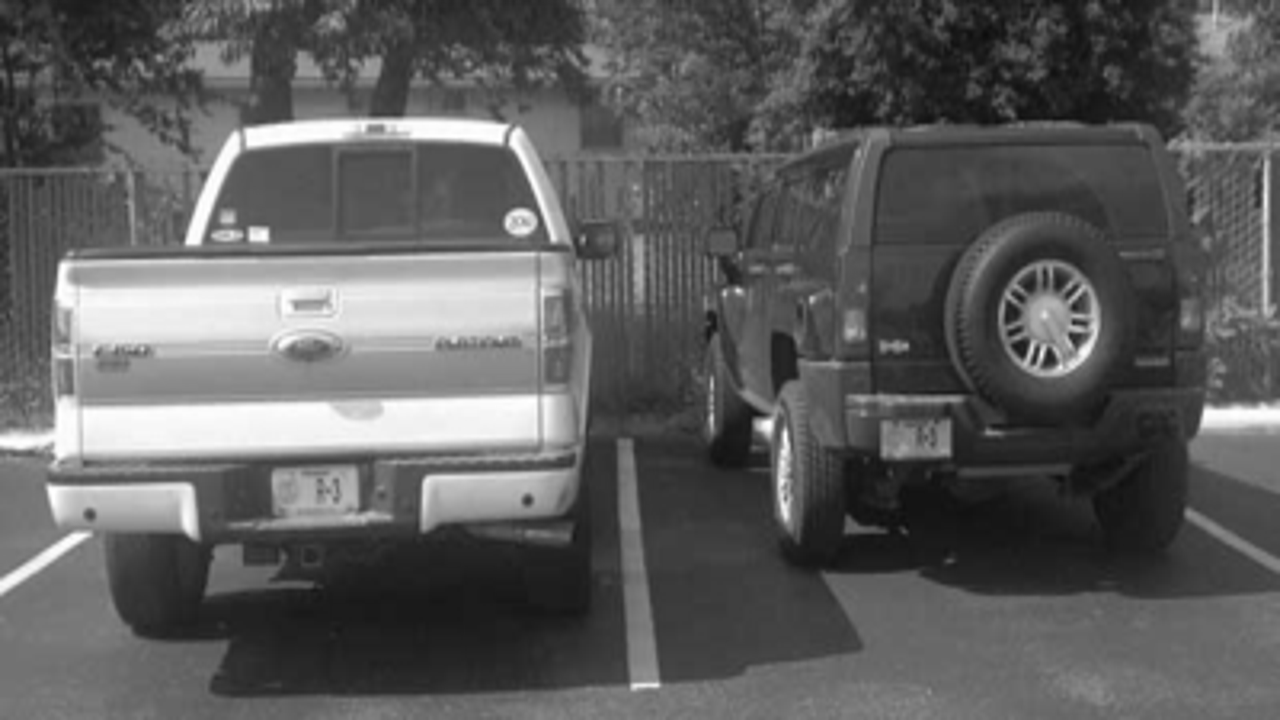license: (265, 462, 365, 525), (873, 413, 957, 464)
